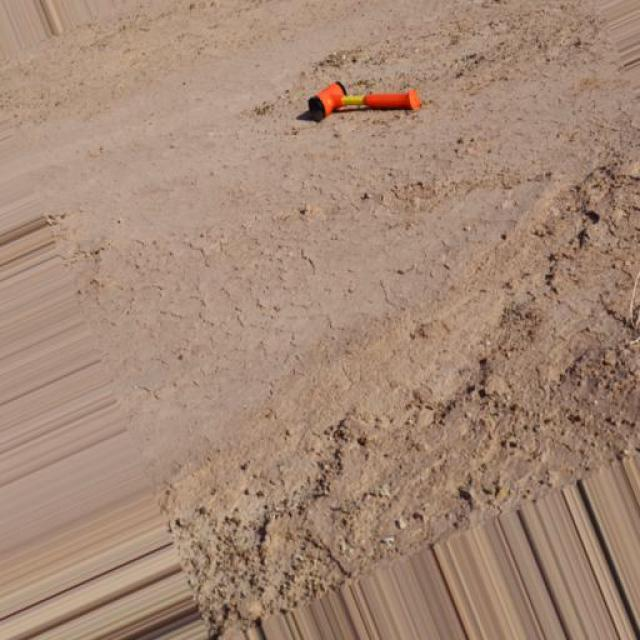mallet: (307, 79, 423, 121)
